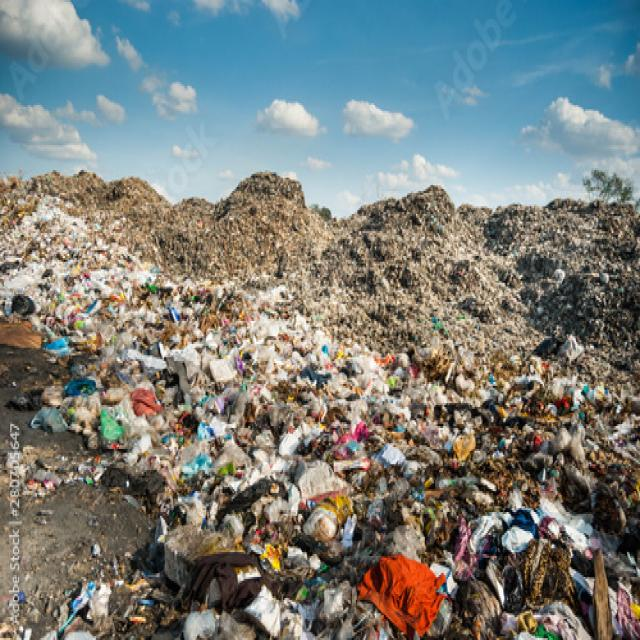trash: (9, 189, 609, 482), (196, 506, 541, 575)
